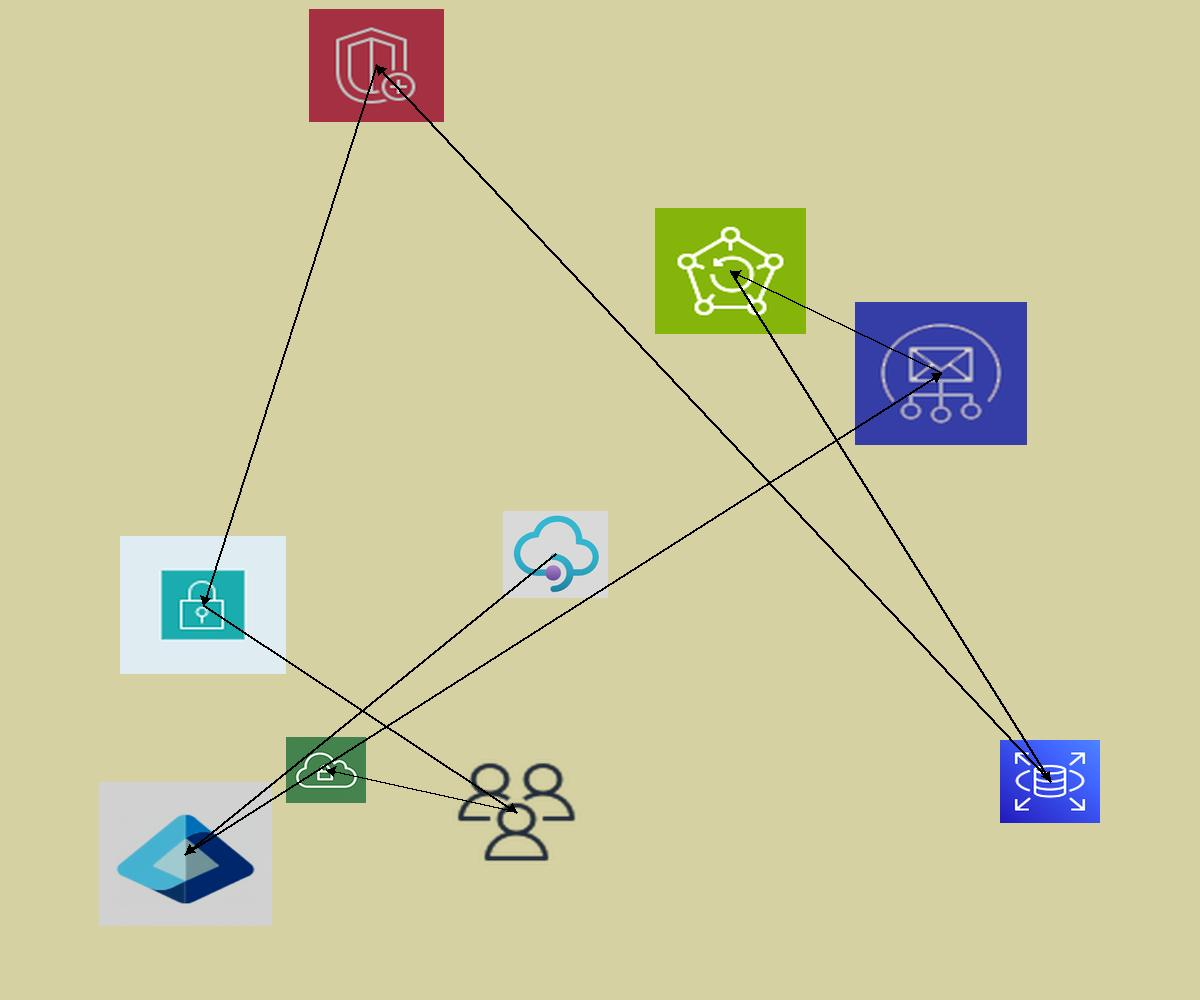AWS-Backup: (655, 208, 806, 334)
AWS-Private-subnet: (120, 536, 286, 674)
AWS-Private_vpc: (286, 737, 366, 803)
AWS-RDS: (1000, 740, 1100, 823)
AWS-Res_Users: (453, 759, 580, 865)
AWS-Shield: (309, 9, 444, 122)
AWS-Simple-Email-Service: (855, 302, 1027, 445)
Azure_api_gateway: (503, 511, 608, 598)
Azure_microsoft_entra: (99, 782, 272, 926)
